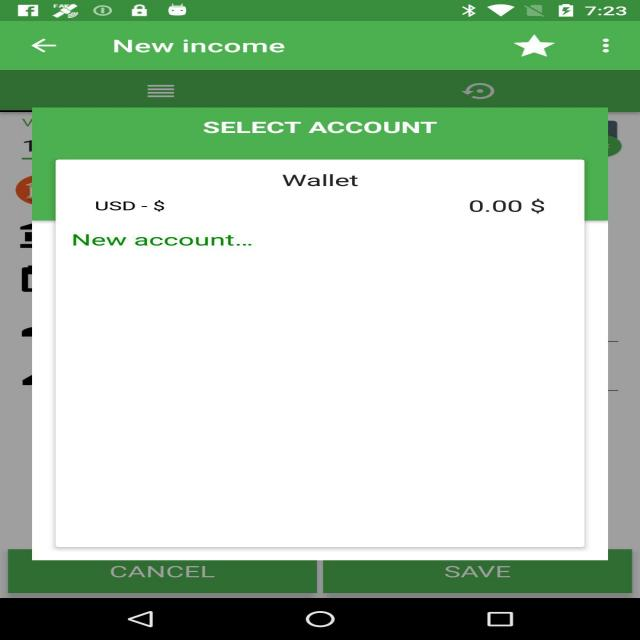icon: (503, 33, 608, 66), (31, 33, 110, 58), (444, 82, 487, 100), (137, 88, 201, 89)
text: (65, 100, 606, 252)
